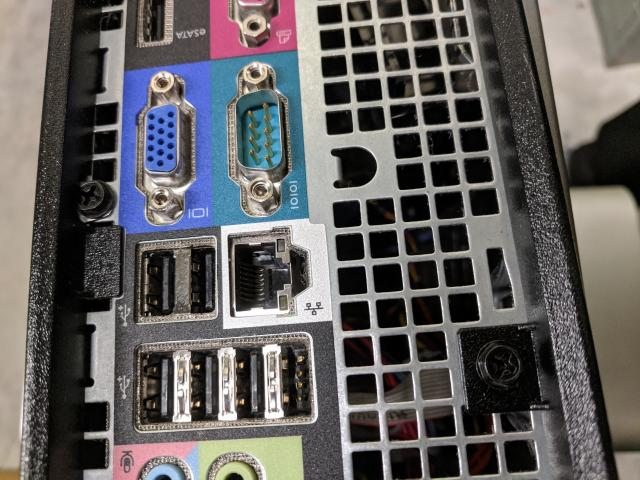CRS: (476, 345, 527, 388), (77, 181, 111, 216)
